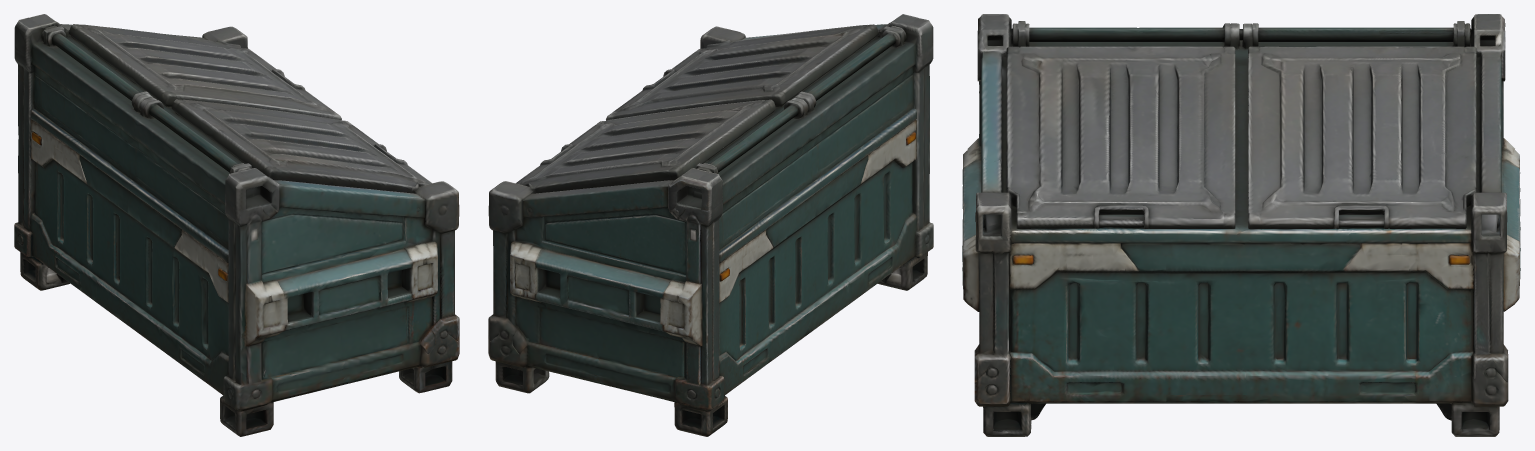
Rendered from kairox-dumpster.glb.
3 renders of one model, left to right at view 1: azimuth 30°, elevation 25°; view 2: azimuth 150°, elevation 25°; view 3: azimuth 270°, elevation 25°, orthographic. The views are drawn at different scales.
Parts seen in each view (by area): view 1: kairox-dumpster; view 2: kairox-dumpster; view 3: kairox-dumpster.
Boxes of the visible parts, x1,y1,x2,y2 form: kairox-dumpster: (14,14,459,436); kairox-dumpster: (488,14,933,436); kairox-dumpster: (962,14,1520,436).
Size of the model in its own units: 1.36 by 1.5 by 2.52.
1 material, 1 textured.
